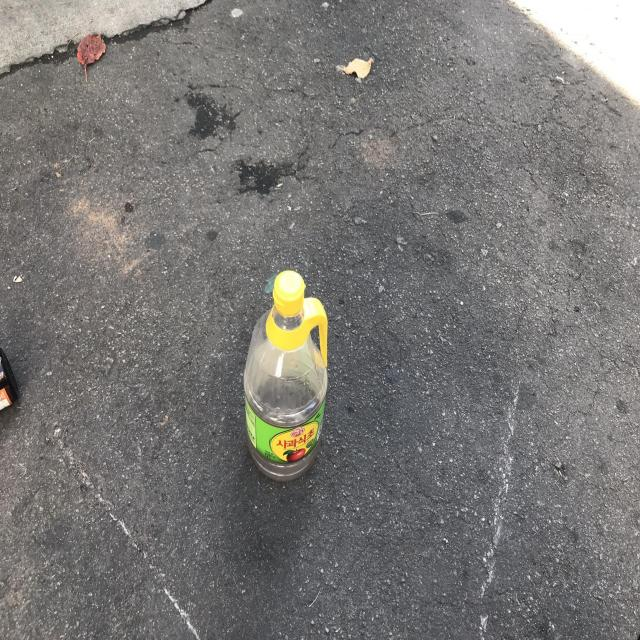plastic: (244, 270, 328, 481)
